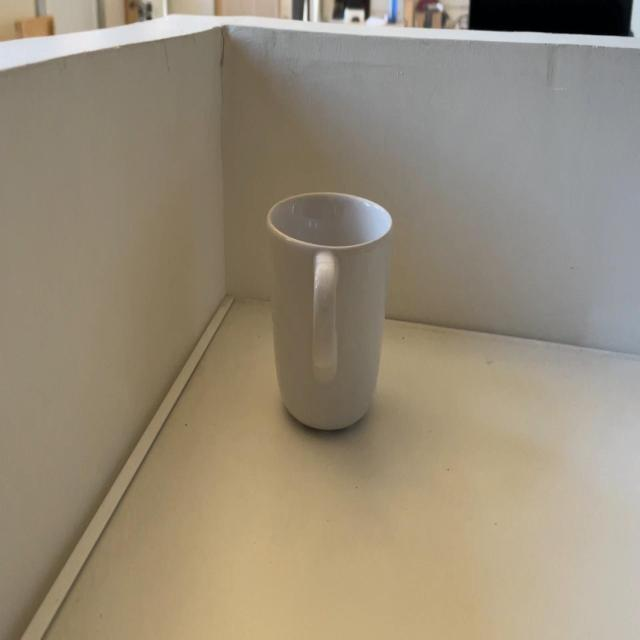cup: (268, 194, 393, 437)
